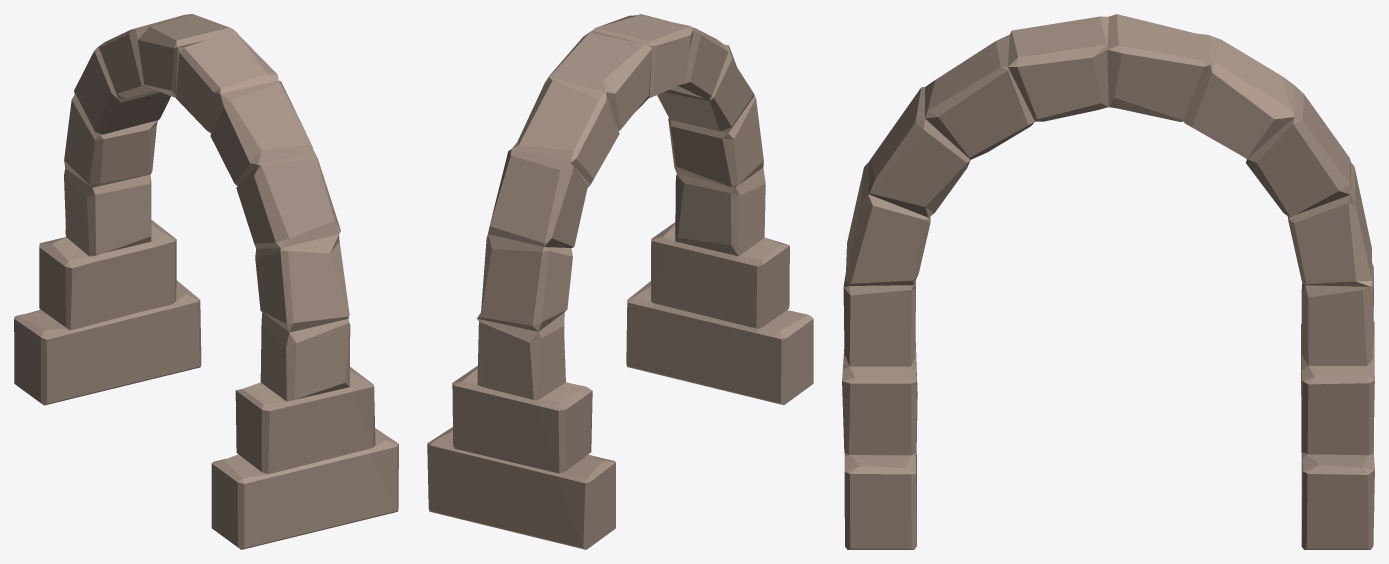
File: Arch.fbx
3 views of the same model, side by side, from view 1: azimuth 30°, elevation 25°; view 2: azimuth 150°, elevation 25°; view 3: azimuth 270°, elevation 25° (orthographic). The views are drawn at different scales.
Visible parts, largest first — view 1: Arch; view 2: Arch; view 3: Arch.
Boxes of the visible parts, x1,y1,x2,y2 form: Arch: (14, 14, 398, 549); Arch: (427, 14, 813, 549); Arch: (842, 14, 1374, 549).
Bounding box in the file's own units: 0.8291 × 2.04 × 2.01.
